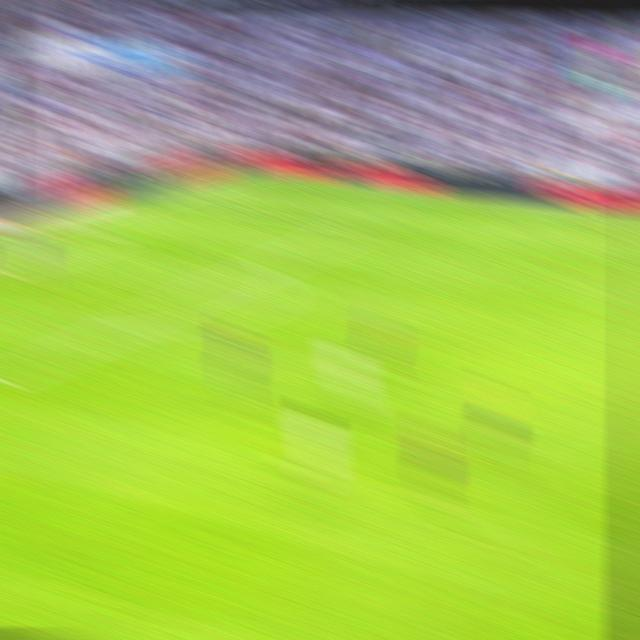bigarea_bottom_outter: (254, 255, 279, 278)
bottom_arc_area_intersection: (109, 314, 136, 340)
smallarea_top_inner: (107, 226, 130, 244)
top_arc_area_intersection: (254, 255, 279, 277)
